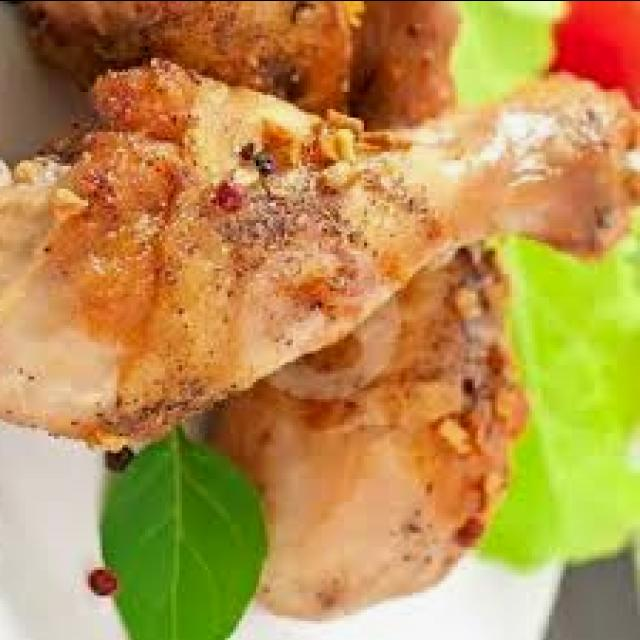ayam goreng: (0, 54, 640, 455)
